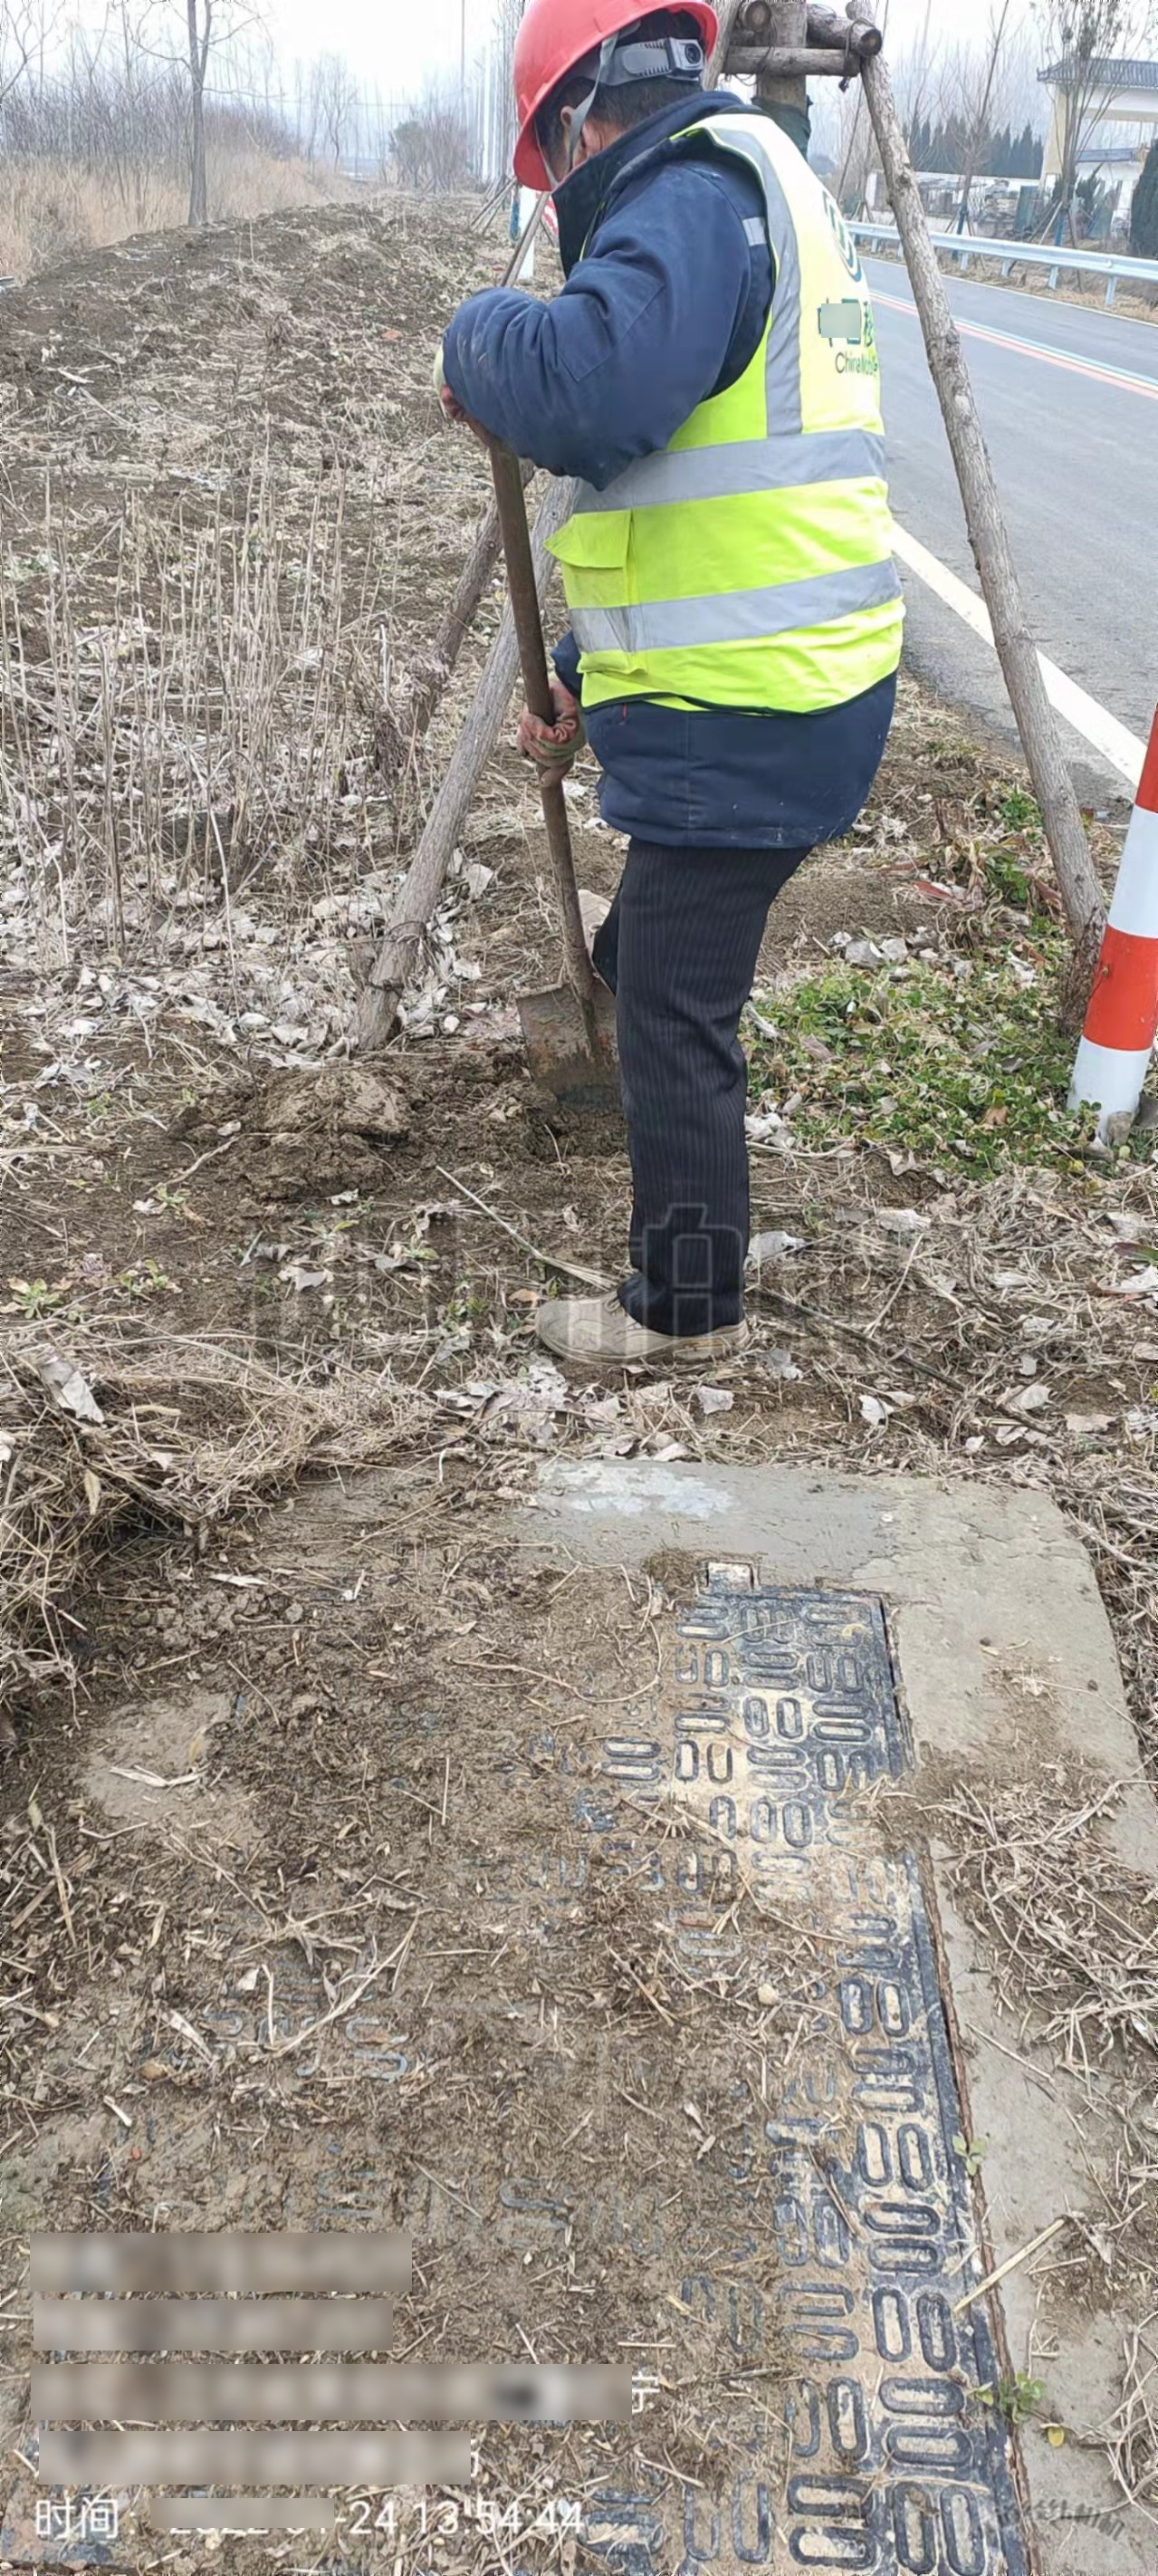good: (28, 1552, 1041, 2576)
